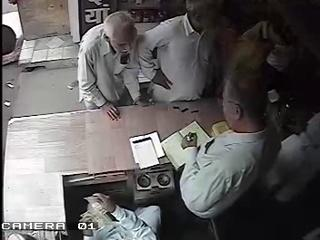Normal: (179, 69, 278, 223), (136, 0, 226, 104), (76, 11, 148, 122), (78, 192, 160, 240)
